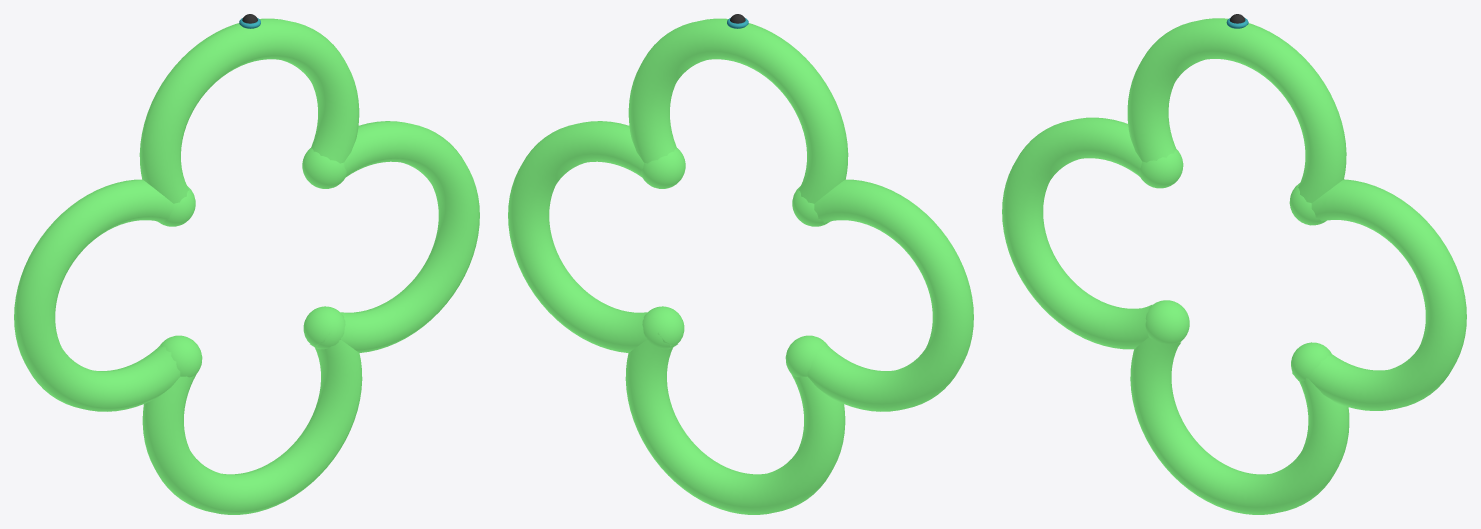
File: tubeClover.gltf
The picture shows the model from 3 angles, left to right: view 1: azimuth 30°, elevation 25°; view 2: azimuth 150°, elevation 25°; view 3: azimuth 330°, elevation 25°; orthographic projection.
Parts seen in each view (by area): view 1: Torus (×4), Sphere (×4); view 2: Torus (×4), Sphere (×4); view 3: Torus (×4), Sphere (×4).
Part boxes in pixels (x1,y1,x2,y2): Torus (×4): (14, 18, 479, 514); Sphere (×4): (158, 148, 346, 377); Torus (×4): (508, 18, 973, 514); Sphere (×4): (641, 148, 829, 377); Torus (×4): (1002, 18, 1466, 514); Sphere (×4): (1139, 150, 1331, 381).
Size of the model in its own units: 3.87 by 3.99 by 0.34.
